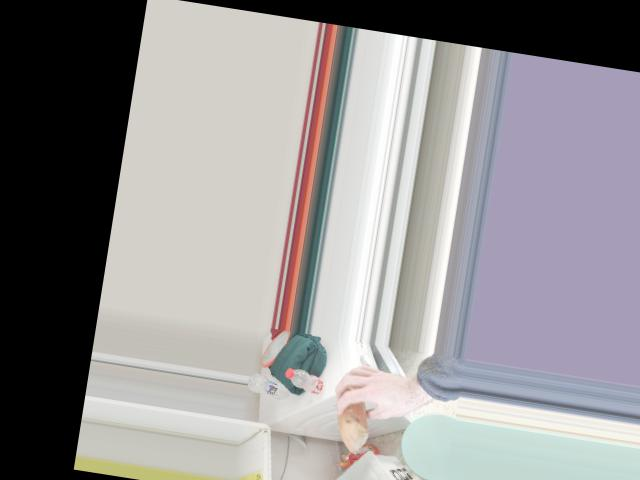sweet_potato: (334, 379, 374, 451)
